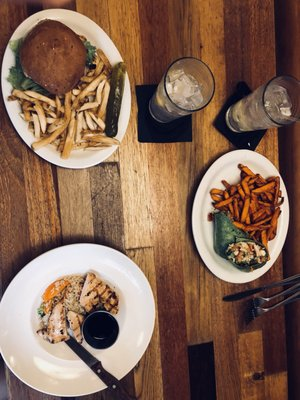sandwich: (58, 327, 140, 400), (222, 274, 299, 303)
sushi: (0, 243, 157, 399), (1, 8, 132, 170), (189, 149, 289, 284)
